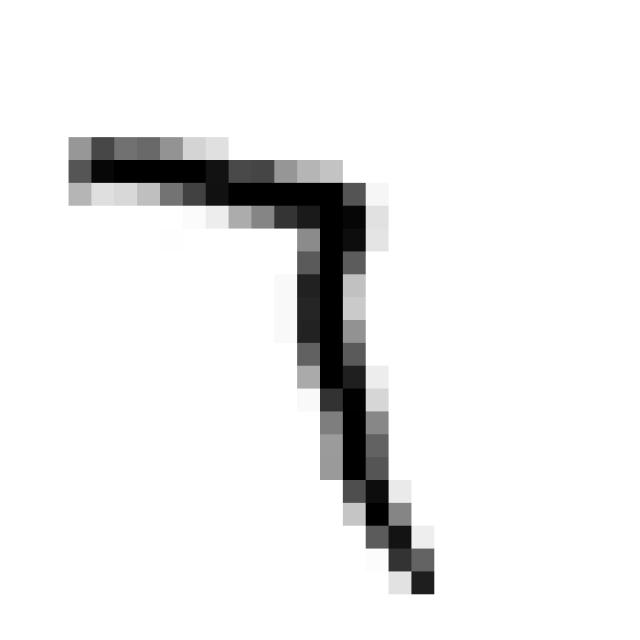6 -six-: (50, 114, 449, 614)
